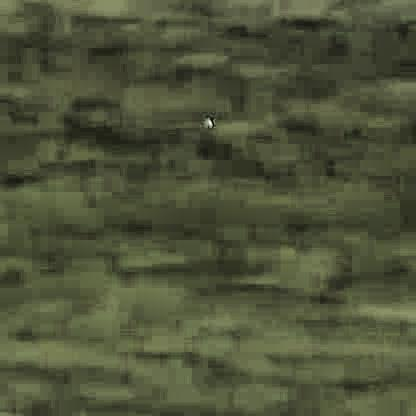golfball: (201, 113, 212, 124)
